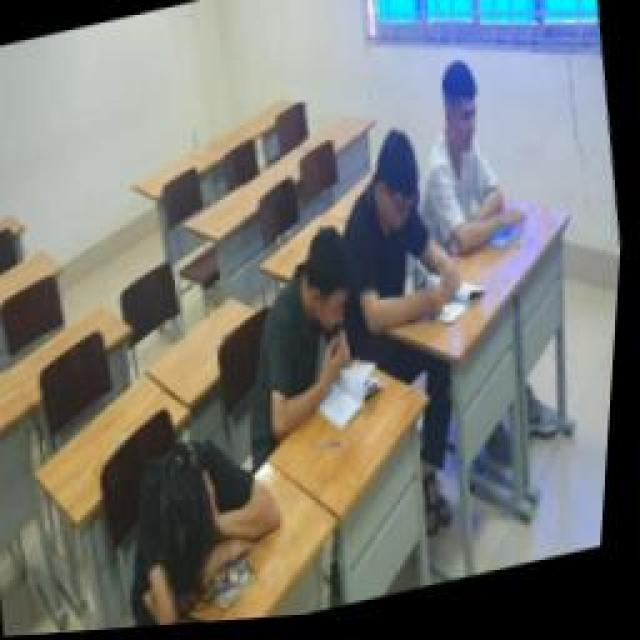sleep: (125, 423, 300, 615)
study: (325, 120, 480, 340), (235, 220, 385, 438), (410, 53, 538, 265)
